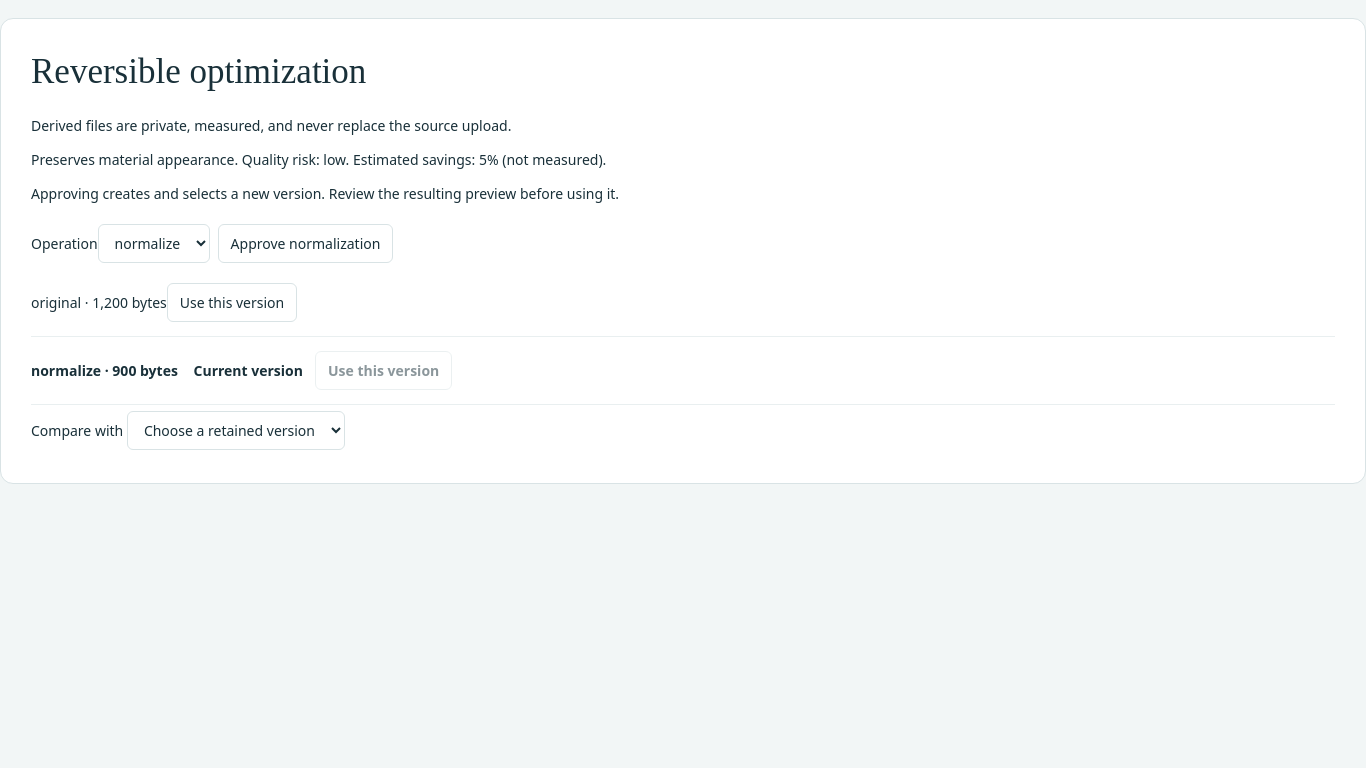
Test: recovers controls after http revert failure without claiming success
The width and height of the screenshot is (1366, 768).
Click the button "Use this version" in the row of "original" at (232, 302), box [167,283,297,322]
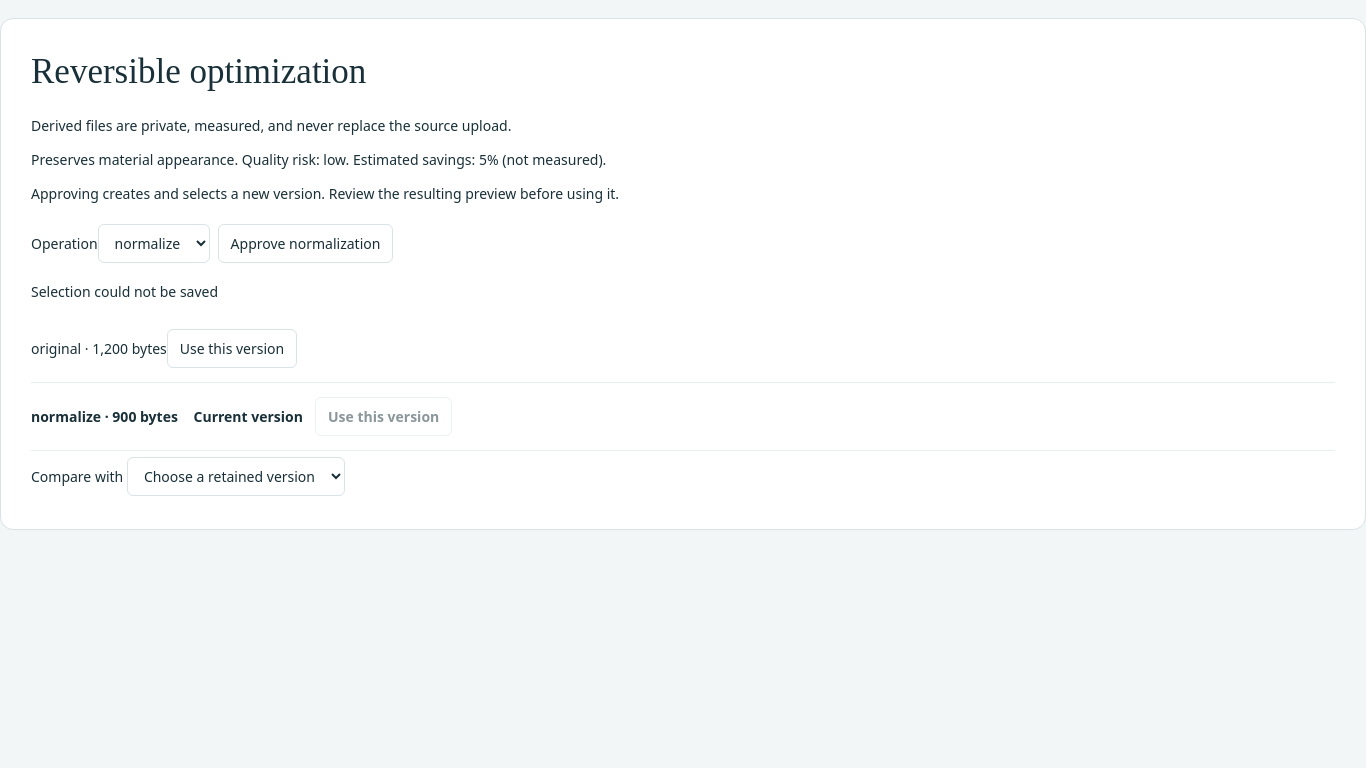
Expected: the button "Approve normalization" is enabled, [218,224,393,263]
Expected: the message reads "Selection could not be saved", [31,282,218,301]
